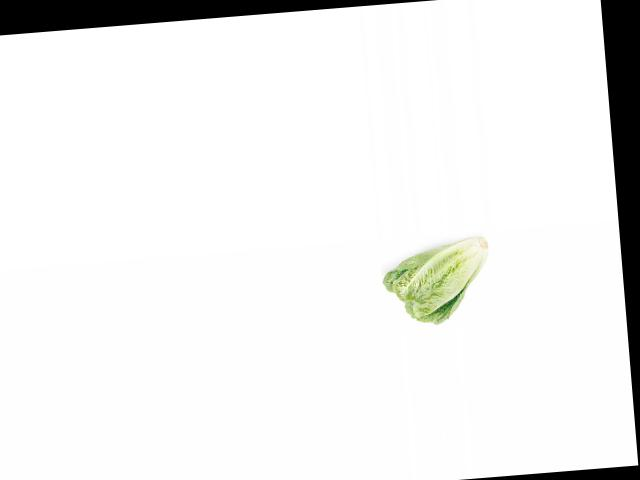lettuce: (380, 232, 501, 327)
